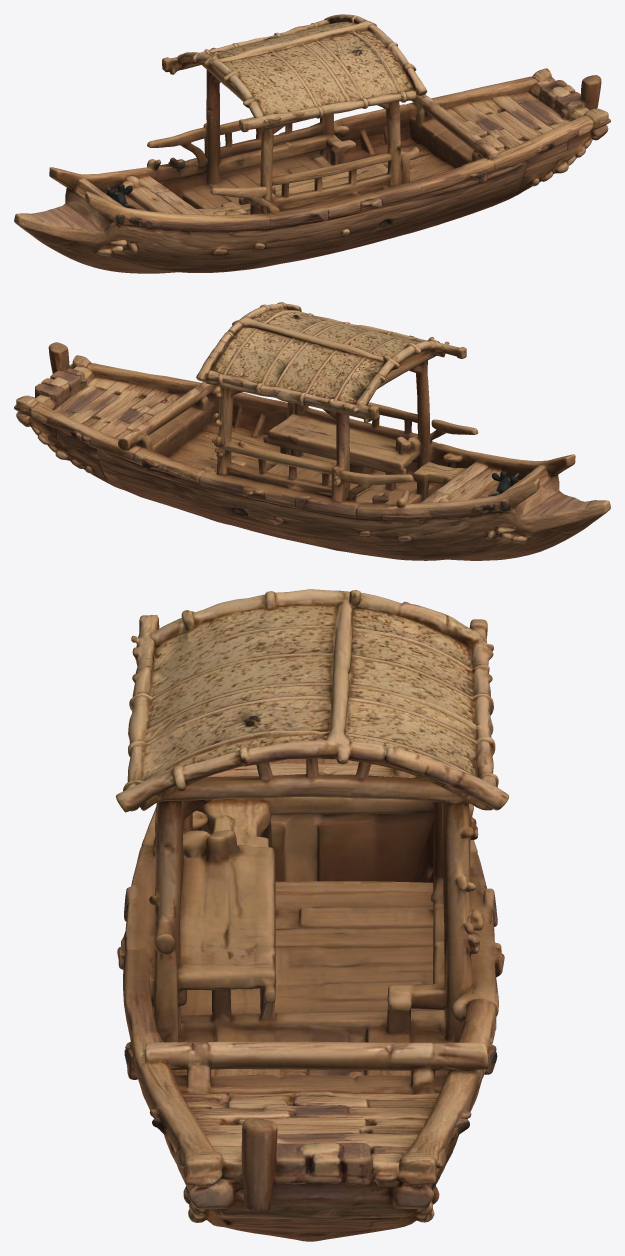
The picture shows the model from 3 angles, top to bottom: view 1: azimuth 30°, elevation 25°; view 2: azimuth 150°, elevation 25°; view 3: azimuth 270°, elevation 25°; orthographic projection. The views are drawn at different scales.
Parts seen in each view (by area): view 1: tripo_node_fb261365-82b3-45af-a424-e30a3916396c; view 2: tripo_node_fb261365-82b3-45af-a424-e30a3916396c; view 3: tripo_node_fb261365-82b3-45af-a424-e30a3916396c.
Boxes of the visible parts, x1,y1,x2,y2 form: tripo_node_fb261365-82b3-45af-a424-e30a3916396c: (14, 14, 610, 273); tripo_node_fb261365-82b3-45af-a424-e30a3916396c: (14, 302, 610, 560); tripo_node_fb261365-82b3-45af-a424-e30a3916396c: (116, 589, 508, 1241).
Bounding box in the file's own units: 1 × 0.341 × 0.2985.
Materials: 1 (1 with a texture image).
